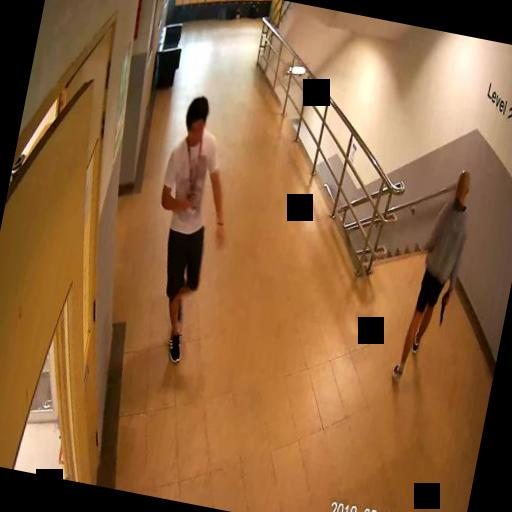Handgun: (436, 289, 450, 324)
